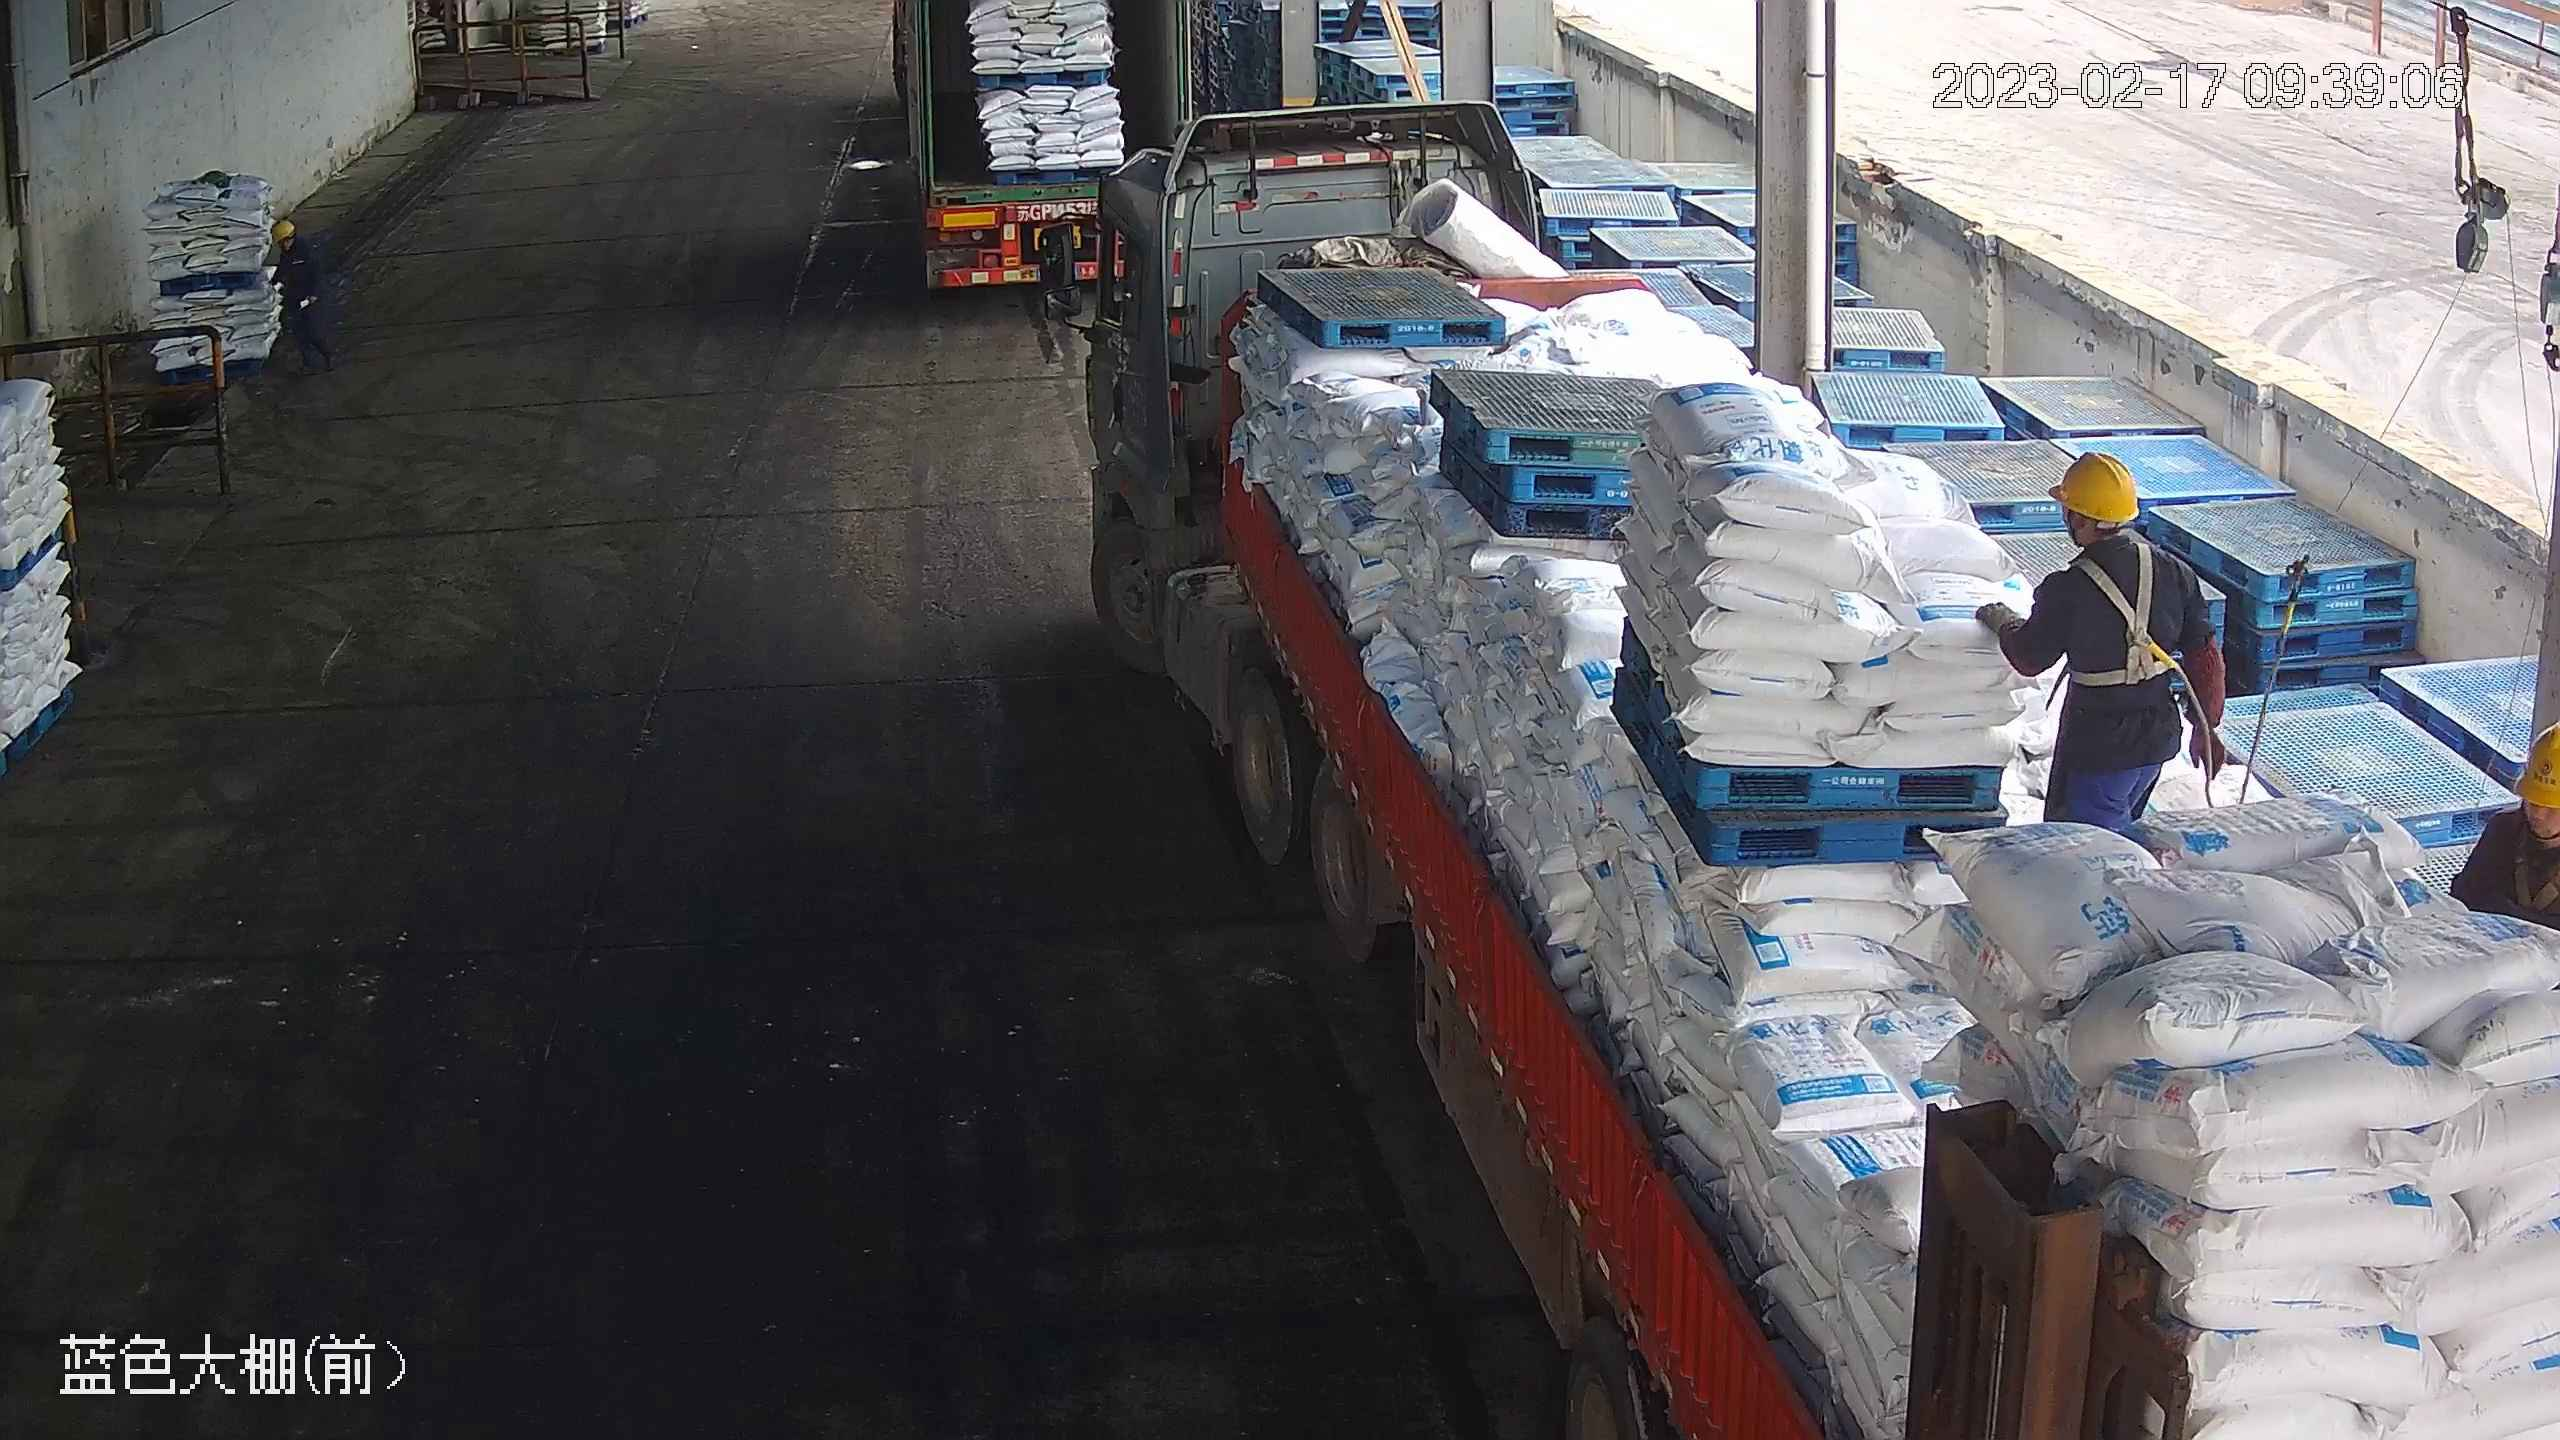belt: (2060, 539, 2184, 691), (2513, 808, 2560, 919)
head: (2031, 448, 2201, 619), (269, 217, 319, 264)
helmet: (2047, 448, 2140, 521), (2516, 716, 2560, 807), (270, 216, 297, 241)
people: (1970, 450, 2227, 832), (264, 216, 342, 377)
truck: (1043, 102, 2557, 1437), (891, 1, 1185, 290)
